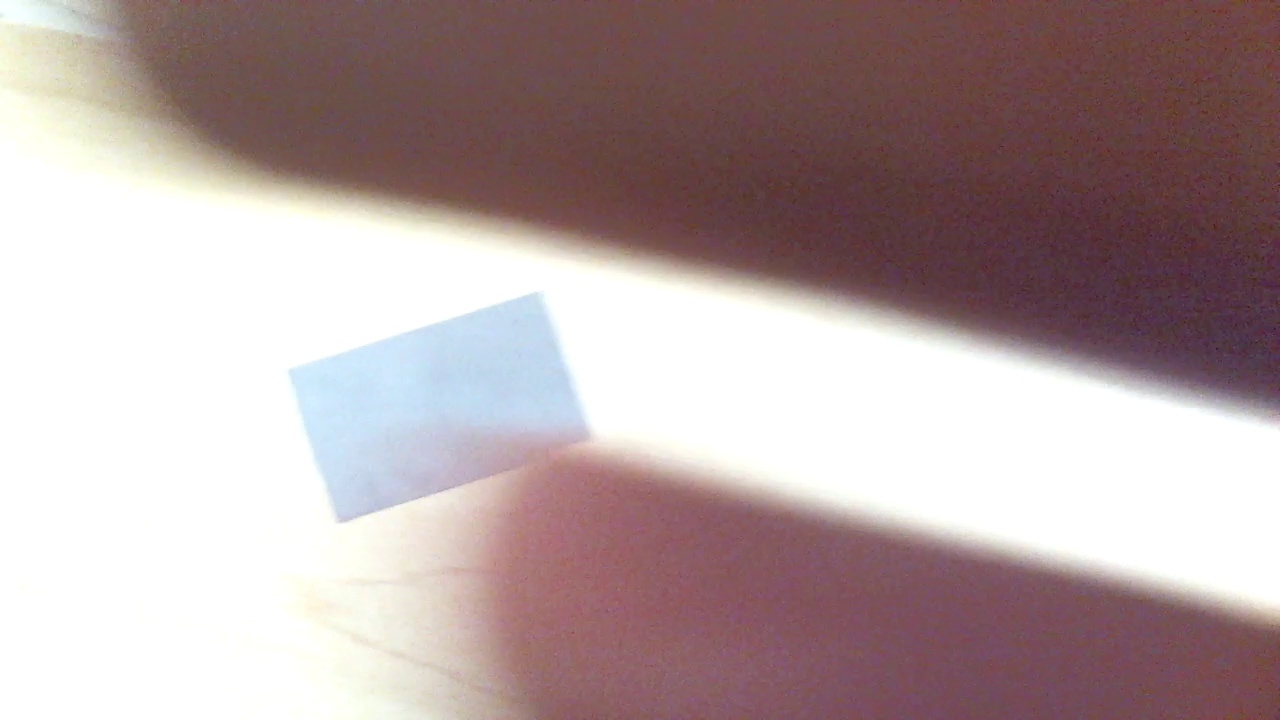Tape: (291, 292, 594, 529)
